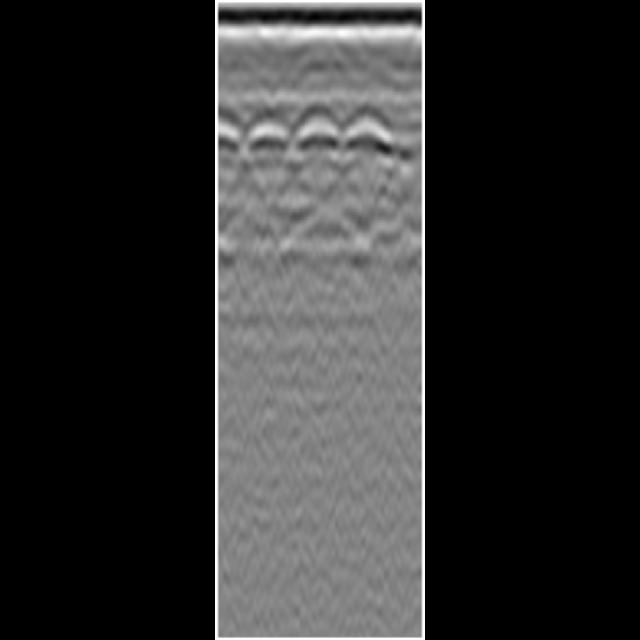hyperbola: (218, 118, 264, 205), (342, 102, 394, 170), (296, 106, 344, 174), (246, 120, 296, 182)
